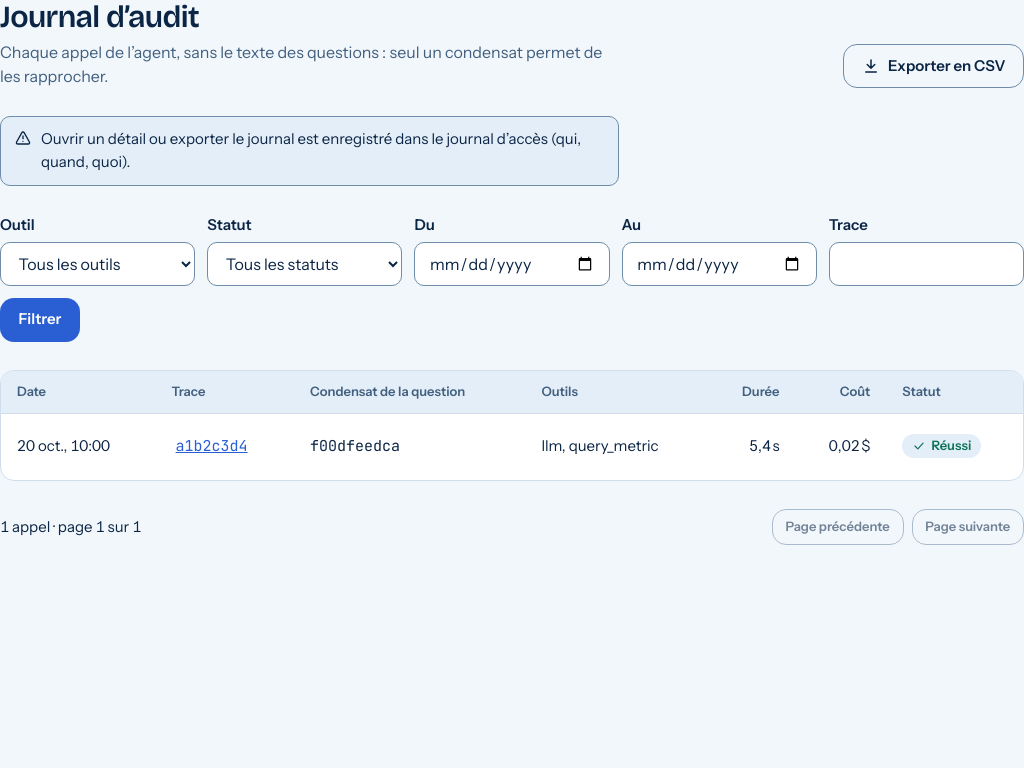
Test case: Journal d’audit › ouvre le détail dans un tiroir en prévenant que l’ouverture est journalisée
Click the button named "Ouvrir le détail de la trace a1b2c3d4e5f60718".
click(212, 447)  # box [172,425,252,469]
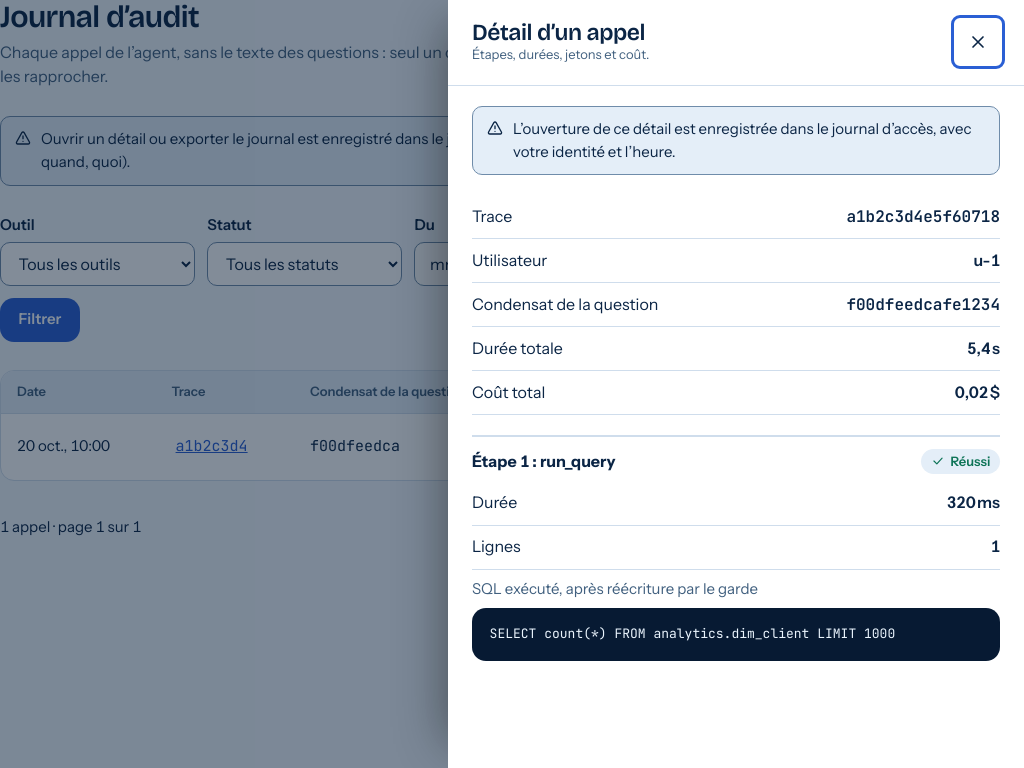
Expected: the text "enregistrée dans le journal d’accès" is shown, [513,119,971,160]
Expected: the text "SELECT count(*) FROM analytics.dim_client LIMIT 1000" is shown, [472,608,1000,661]
